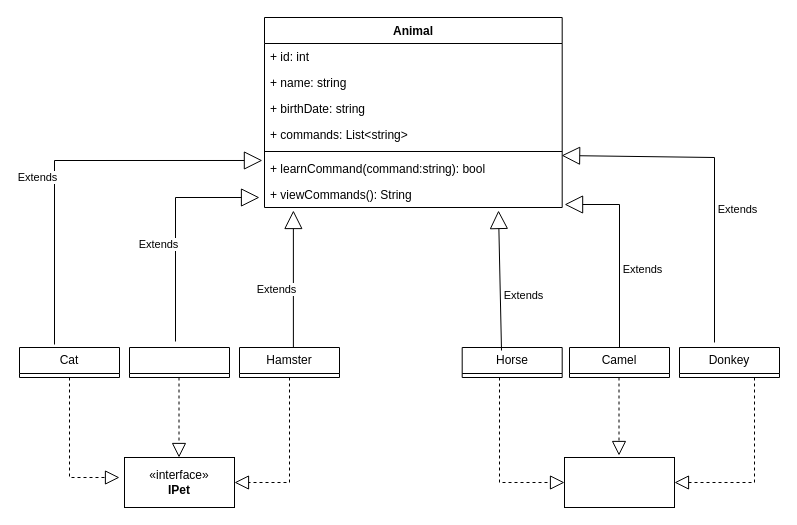
Image size: 797x525. Some labels were removed from this diagram. Here are the shapes that lost their labels. From the top down, the centre of each, then its label:
(179,362): Dog
(619,482): «interface» IPackAnimal
